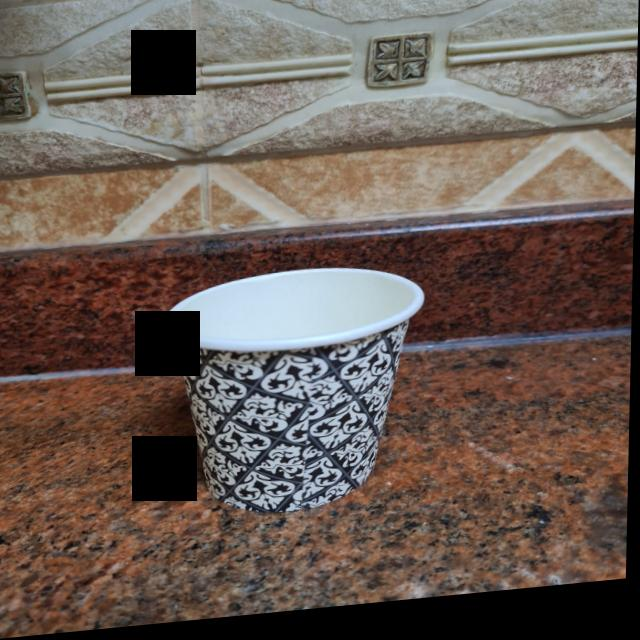cups: (169, 264, 430, 527)
